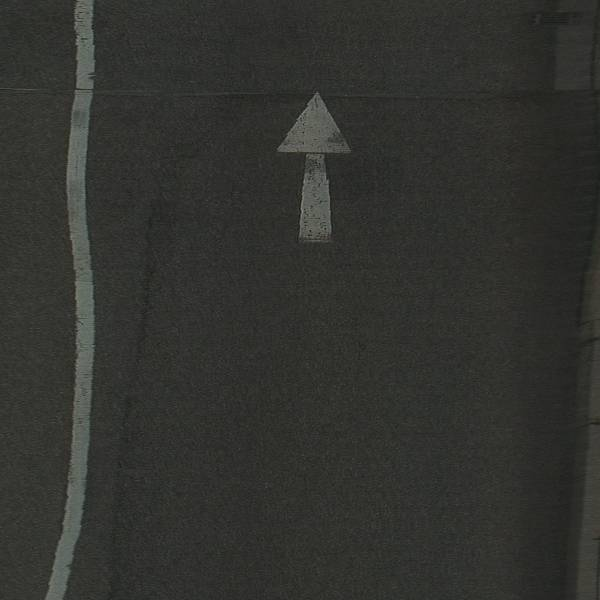road_damage: (100, 194, 175, 600), (41, 78, 600, 117)
